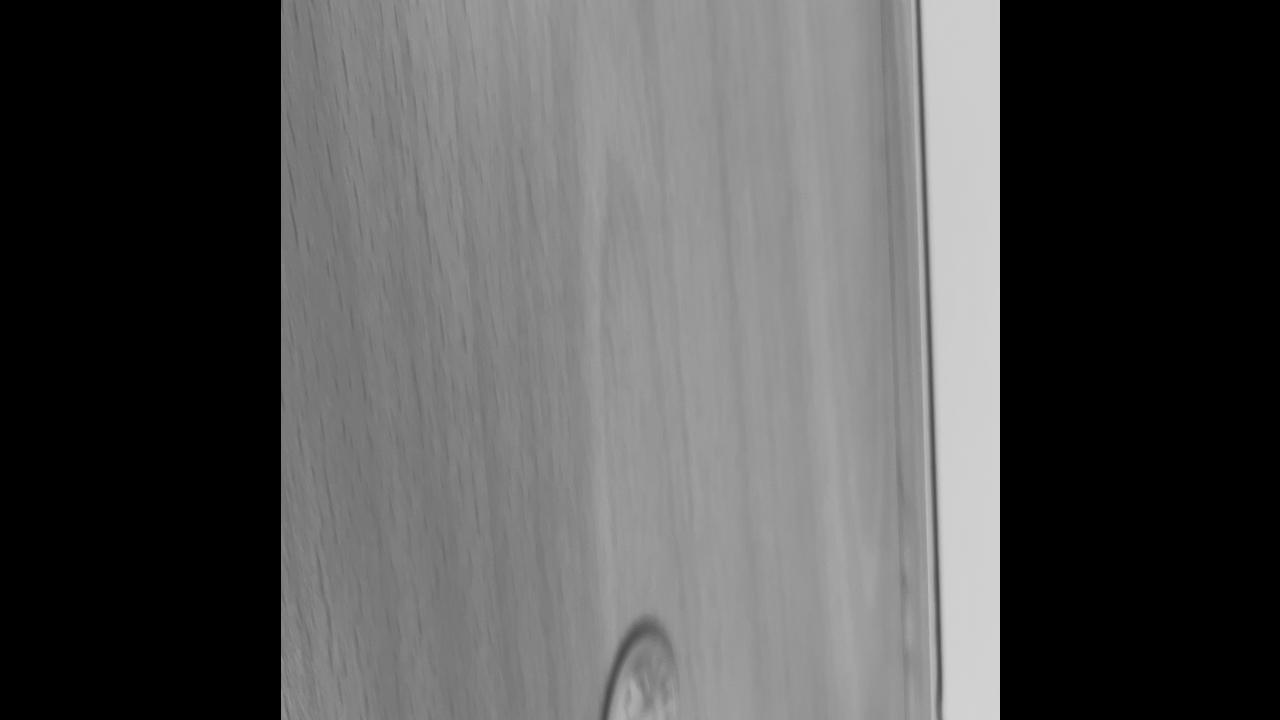coin: (598, 624, 680, 720)
